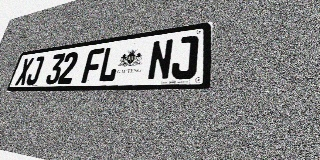2: (57, 51, 79, 84)
3: (45, 53, 66, 84)
F: (81, 48, 105, 83)
J: (170, 35, 199, 80), (25, 56, 45, 85)
L: (97, 45, 122, 82)
N: (147, 38, 174, 81)
X: (15, 57, 34, 86)
